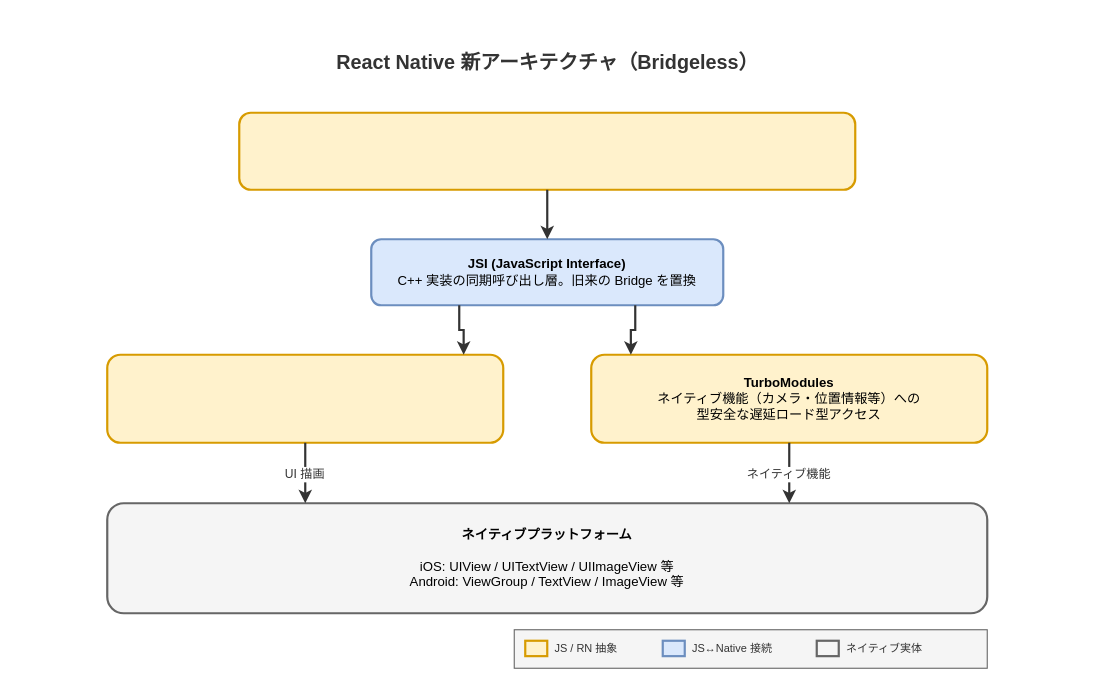
This 1093x697 diagram has some shape labels left out. The box of each missing label's shape, as (x1, y1, x2, y2) in pixels:
Fabric Renderer Shadow Tree を構築し Native View Tree に同期反映: (106, 353, 504, 443)
JavaScript スレッド（Hermes エンジン） React コンポーネント / JSX / Hooks をここで実行: (238, 111, 856, 190)
